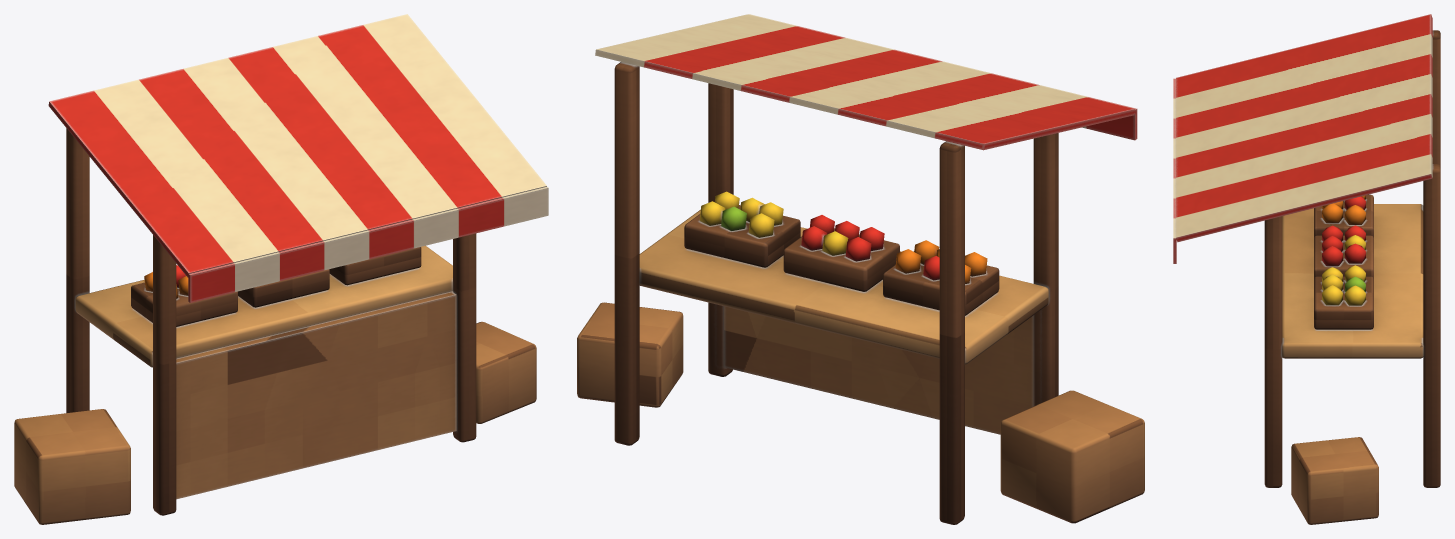
Rendered from market_stall.glb.
3 views of the same model, side by side, from view 1: azimuth 30°, elevation 25°; view 2: azimuth 150°, elevation 25°; view 3: azimuth 270°, elevation 25° (orthographic). The views are drawn at different scales.
Parts seen in each view (by area): view 1: market_stall; view 2: market_stall; view 3: market_stall.
Boxes of the visible parts, box(x1,y1,x2,y2) form: market_stall: box(14, 14, 548, 524); market_stall: box(577, 14, 1144, 524); market_stall: box(1173, 14, 1440, 524).
Bounding box in the file's own units: 3 × 2.03 × 1.52.
Materials: 1 (1 with a texture image).
